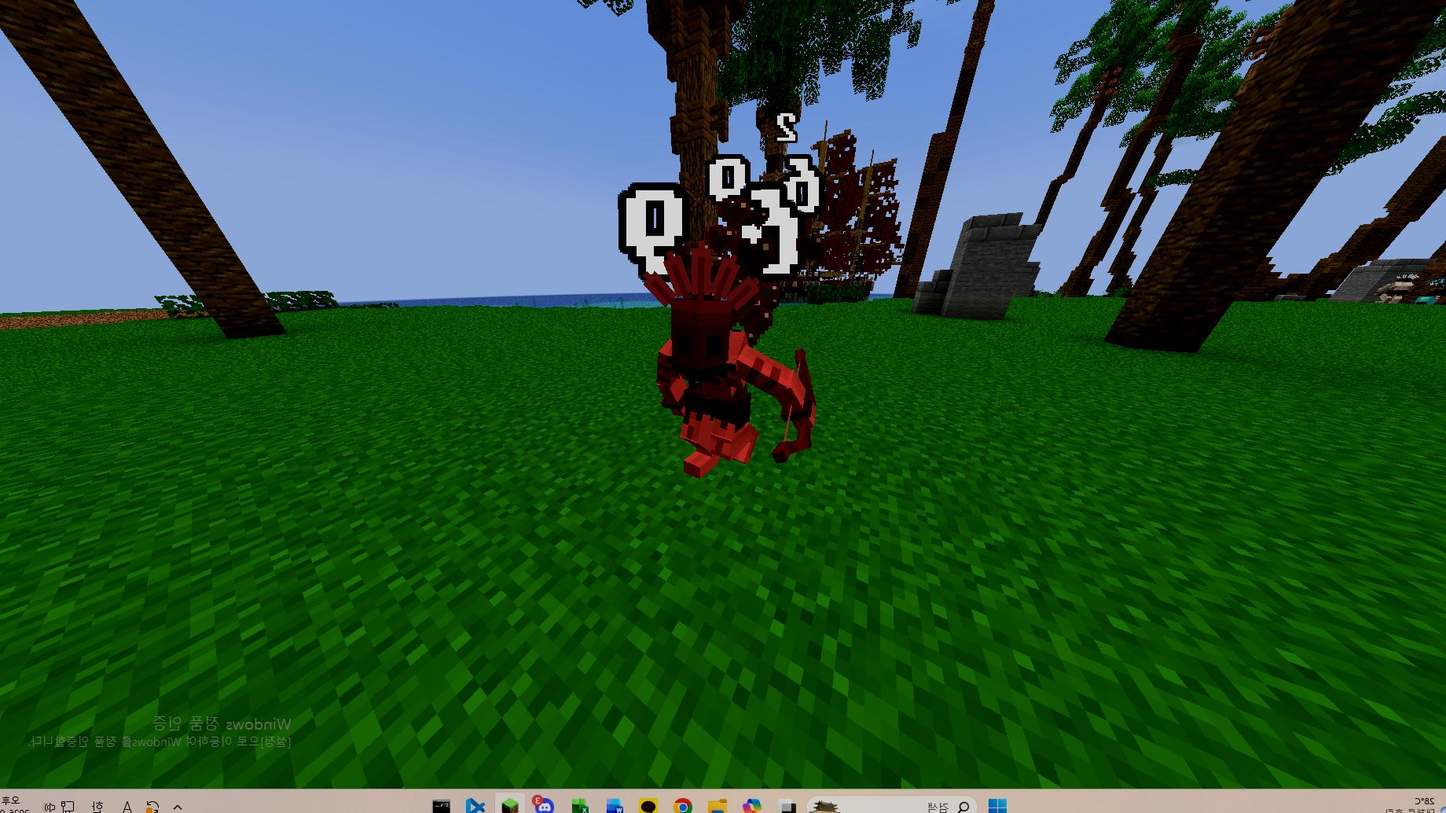bow_indian: (612, 194, 878, 487)
